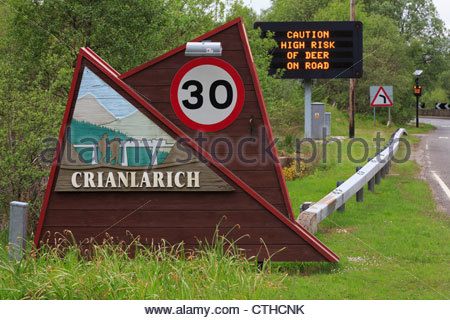speed_limit_30: (170, 57, 245, 132)
